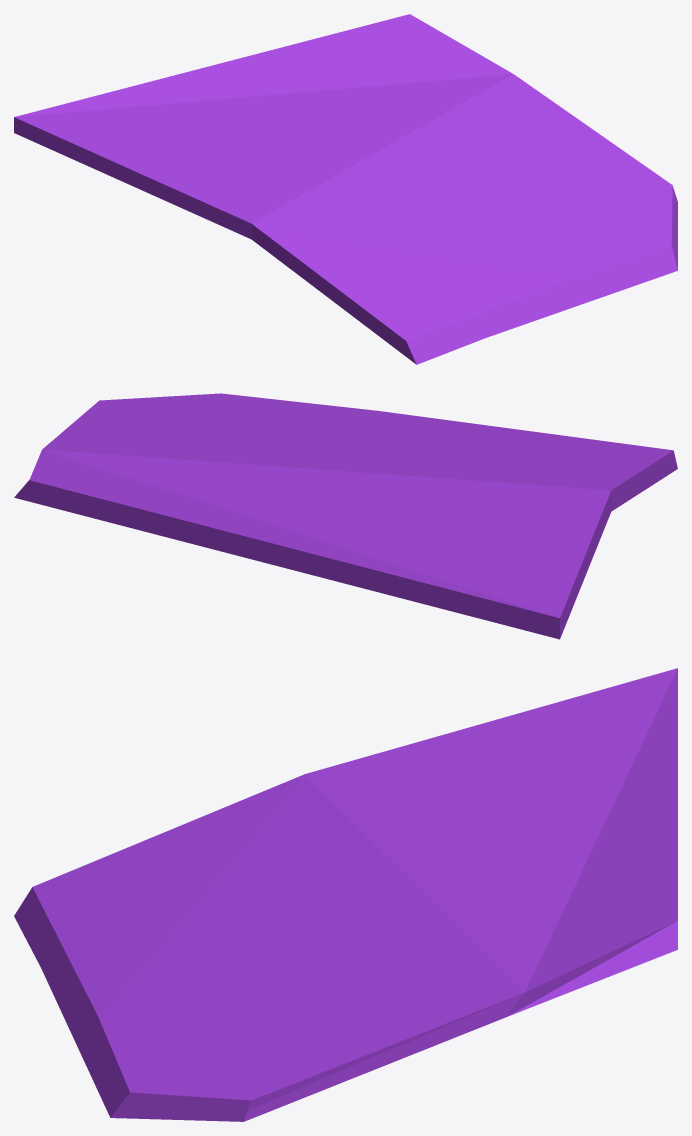
The model's file is Glass_100_0_1_chunks.fbx.
3 renders of one model, top to bottom at view 1: azimuth 30°, elevation 25°; view 2: azimuth 150°, elevation 25°; view 3: azimuth 270°, elevation 25°, orthographic. The views are drawn at different scales.
Visible parts, largest first — view 1: Glass_100_0_1_30, Glass_100_0_1_9, Glass_100_0_1_40, Glass_100_0_1_27, Glass_100_0_1_0, Glass_100_0_1_33, Glass_100_0_1_1, Glass_100_0_1_19, Glass_100_0_1_6, Glass_100_0_1_43, Glass_100_0_1_18, Glass_100_0_1_12 (+26 smaller); view 2: Glass_100_0_1_40, Glass_100_0_1_12, Glass_100_0_1_1, Glass_100_0_1_9, Glass_100_0_1_0, Glass_100_0_1_43, Glass_100_0_1_48, Glass_100_0_1_30, Glass_100_0_1_45, Glass_100_0_1_44, Glass_100_0_1_7, Glass_100_0_1_6 (+25 smaller); view 3: Glass_100_0_1_19, Glass_100_0_1_0, Glass_100_0_1_40, Glass_100_0_1_27, Glass_100_0_1_30, Glass_100_0_1_24, Glass_100_0_1_1, Glass_100_0_1_6, Glass_100_0_1_9, Glass_100_0_1_33, Glass_100_0_1_18, Glass_100_0_1_10 (+27 smaller).
Boxes of the visible parts, x1=… form: Glass_100_0_1_30: x1=320, y1=261, x2=444, y2=357; Glass_100_0_1_9: x1=130, y1=176, x2=315, y2=274; Glass_100_0_1_40: x1=41, y1=129, x2=247, y2=186; Glass_100_0_1_27: x1=496, y1=249, x2=675, y2=315; Glass_100_0_1_0: x1=337, y1=103, x2=437, y2=217; Glass_100_0_1_33: x1=436, y1=261, x2=547, y2=337; Glass_100_0_1_1: x1=276, y1=26, x2=400, y2=162; Glass_100_0_1_19: x1=594, y1=171, x2=677, y2=271; Glass_100_0_1_6: x1=423, y1=87, x2=488, y2=192; Glass_100_0_1_43: x1=193, y1=60, x2=282, y2=139; Glass_100_0_1_18: x1=486, y1=164, x2=620, y2=234; Glass_100_0_1_12: x1=231, y1=29, x2=358, y2=98; Glass_100_0_1_40: x1=468, y1=511, x2=588, y2=619; Glass_100_0_1_12: x1=71, y1=498, x2=292, y2=567; Glass_100_0_1_1: x1=90, y1=480, x2=417, y2=508; Glass_100_0_1_9: x1=511, y1=474, x2=630, y2=576; Glass_100_0_1_0: x1=204, y1=452, x2=465, y2=481; Glass_100_0_1_43: x1=269, y1=522, x2=415, y2=573; Glass_100_0_1_48: x1=343, y1=562, x2=499, y2=623; Glass_100_0_1_30: x1=532, y1=442, x2=676, y2=489; Glass_100_0_1_45: x1=474, y1=576, x2=567, y2=639; Glass_100_0_1_44: x1=398, y1=521, x2=538, y2=586; Glass_100_0_1_7: x1=21, y1=469, x2=157, y2=510; Glass_100_0_1_6: x1=130, y1=441, x2=348, y2=476; Glass_100_0_1_19: x1=109, y1=1039, x2=332, y2=1121; Glass_100_0_1_0: x1=277, y1=850, x2=514, y2=920; Glass_100_0_1_40: x1=401, y1=680, x2=634, y2=792; Glass_100_0_1_27: x1=63, y1=956, x2=173, y2=1115; Glass_100_0_1_30: x1=20, y1=825, x2=186, y2=916; Glass_100_0_1_24: x1=365, y1=958, x2=509, y2=1069; Glass_100_0_1_1: x1=406, y1=817, x2=677, y2=914; Glass_100_0_1_6: x1=294, y1=917, x2=529, y2=958; Glass_100_0_1_9: x1=223, y1=727, x2=469, y2=821; Glass_100_0_1_33: x1=41, y1=911, x2=156, y2=1016; Glass_100_0_1_18: x1=168, y1=958, x2=346, y2=1054; Glass_100_0_1_10: x1=234, y1=807, x2=381, y2=872.
Bounding box in the file's own units: 1377 × 307 × 1163.
